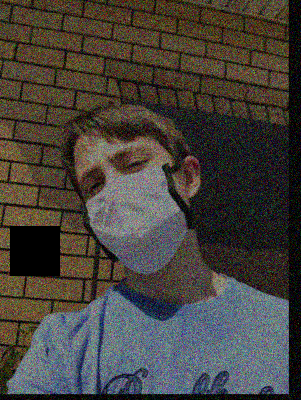with_mask: (72, 143, 199, 274)
